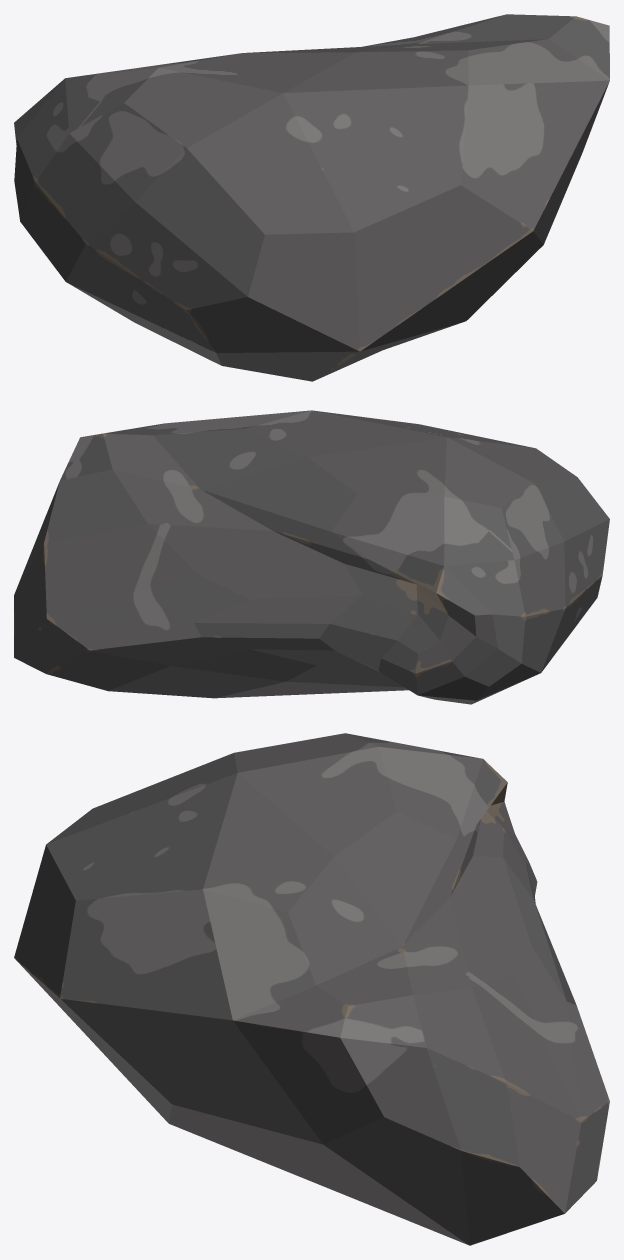
File: PT_stones_003.FBX
3 views of the same model, one above another, from view 1: azimuth 30°, elevation 25°; view 2: azimuth 150°, elevation 25°; view 3: azimuth 270°, elevation 25° (orthographic). The views are drawn at different scales.
Parts seen in each view (by area): view 1: Box142; view 2: Box142; view 3: Box142.
Boxes of the visible parts, x1=… form: Box142: x1=14, y1=14, x2=609, y2=381; Box142: x1=14, y1=410, x2=609, y2=704; Box142: x1=14, y1=733, x2=609, y2=1245.
Size of the model in its own units: 11.07 by 5.39 by 9.4.
1 material, 1 textured.
